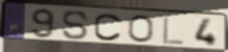4: (193, 17, 221, 48)
9: (29, 7, 56, 40)
C: (93, 12, 124, 42)
L: (160, 15, 186, 46)
O: (127, 14, 156, 44)
S: (61, 9, 90, 41)
